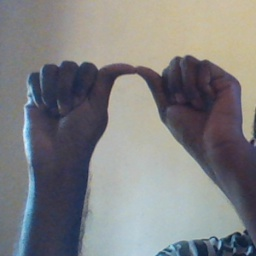A: (20, 54, 245, 164)
